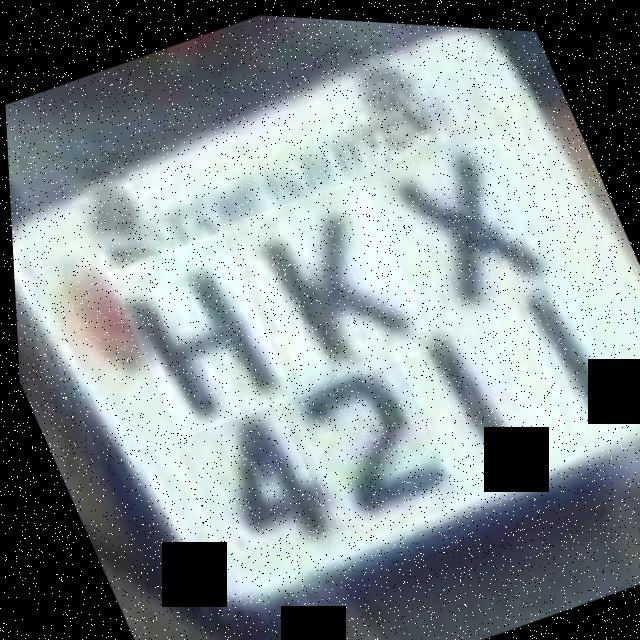1: (383, 309, 537, 487), (479, 273, 627, 450)
2: (261, 328, 452, 535)
4: (154, 364, 345, 580)
H: (101, 223, 293, 441)
K: (226, 166, 436, 396)
